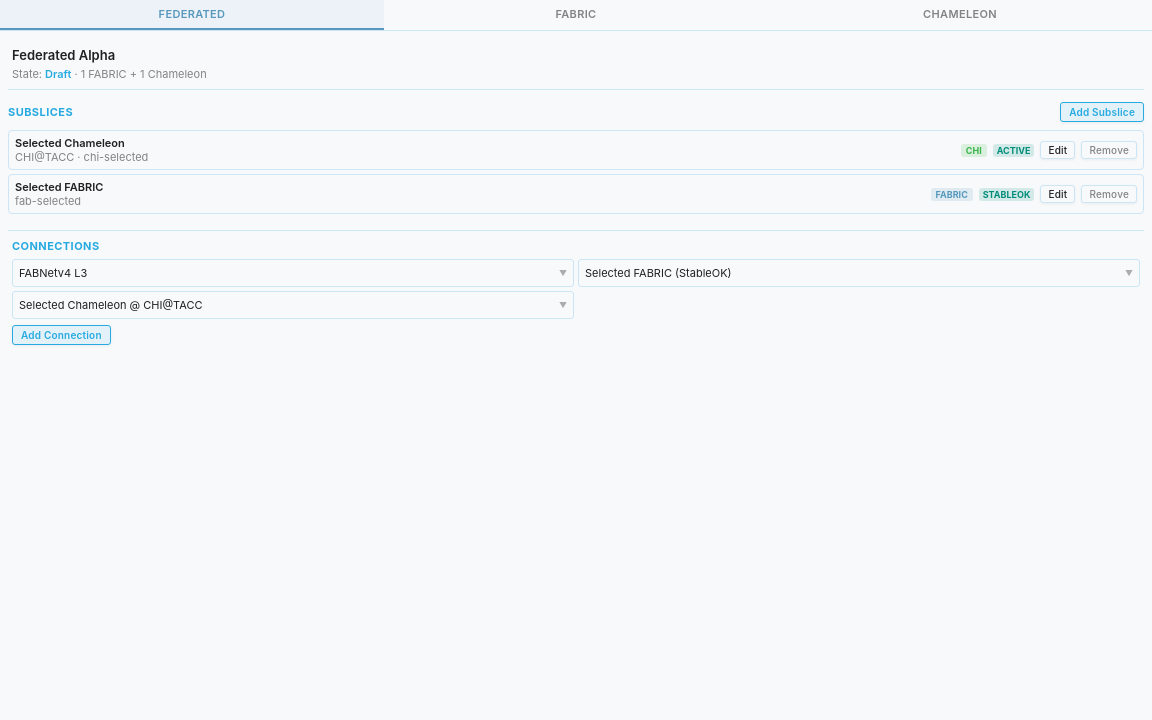
Scenario: CompositeEditorPanel › shows selected subslices in the federated tab without listing all candidates
Check: the text "Subslices" is shown, box [8,105,73,119]
Check: the text "Selected FABRIC" is shown, box [15,180,103,194]
Click the button "Add Subslice" at (1102,112), box [1060,102,1144,122]
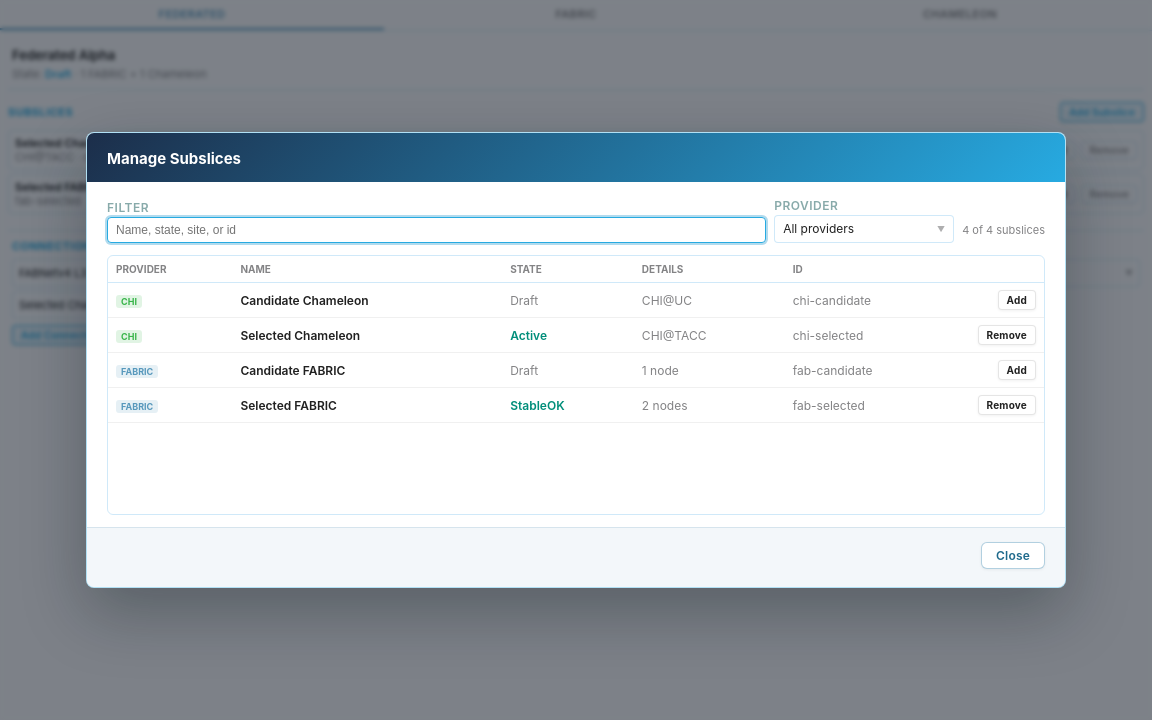
Check: the dialog "Manage Subslices" is shown, box [86,132,1066,588]
Check: the text "Candidate FABRIC" is shown, box [232,353,502,388]
Check: the text "Candidate Chameleon" is shown, box [232,283,502,318]
